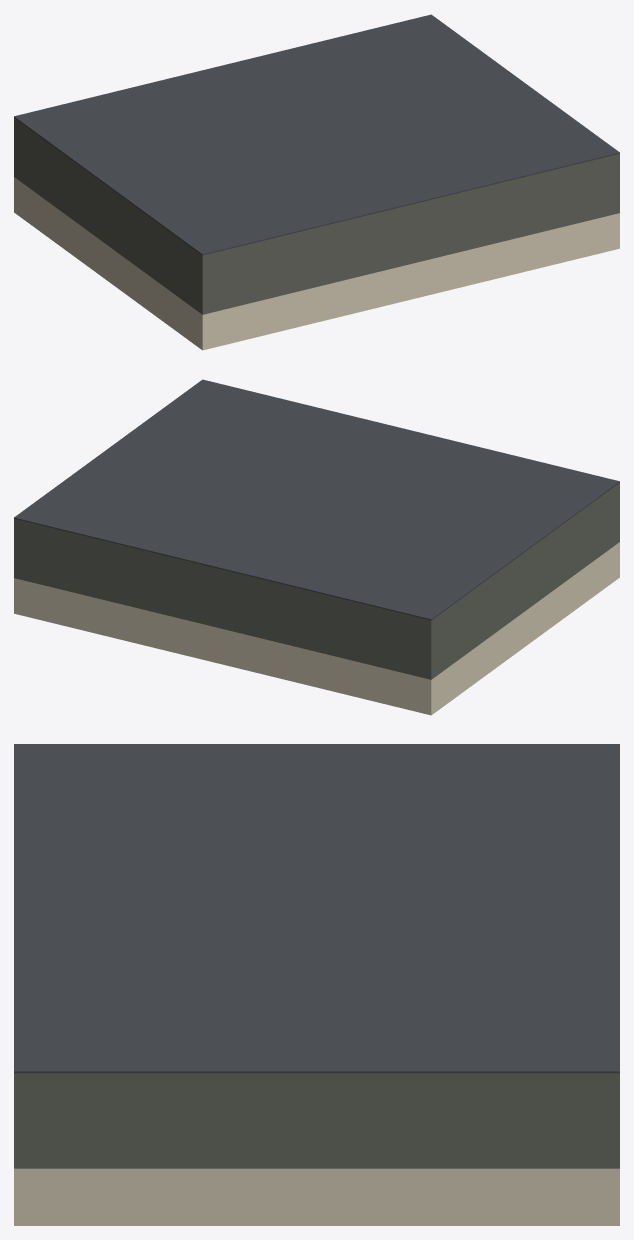
The model's file is store_shell.glb.
3 views of the same model, one above another, from view 1: azimuth 30°, elevation 25°; view 2: azimuth 150°, elevation 25°; view 3: azimuth 270°, elevation 25° (orthographic). The views are drawn at different scales.
Parts seen in each view (by area): view 1: roof_deck, wall_upper, wall_paint; view 2: roof_deck, wall_upper, wall_paint; view 3: roof_deck, wall_upper, wall_paint.
Boxes of the visible parts, left/top/right/bottom form: roof_deck: left=14, top=14, right=619, bottom=255; wall_upper: left=14, top=118, right=619, bottom=314; wall_paint: left=14, top=177, right=619, bottom=350; roof_deck: left=14, top=379, right=619, bottom=620; wall_upper: left=14, top=483, right=619, bottom=679; wall_paint: left=14, top=542, right=619, bottom=715; roof_deck: left=14, top=744, right=619, bottom=1073; wall_upper: left=14, top=1073, right=619, bottom=1168; wall_paint: left=14, top=1168, right=619, bottom=1225.
Size of the model in its own units: 36.8 by 8.2 by 28.8.
